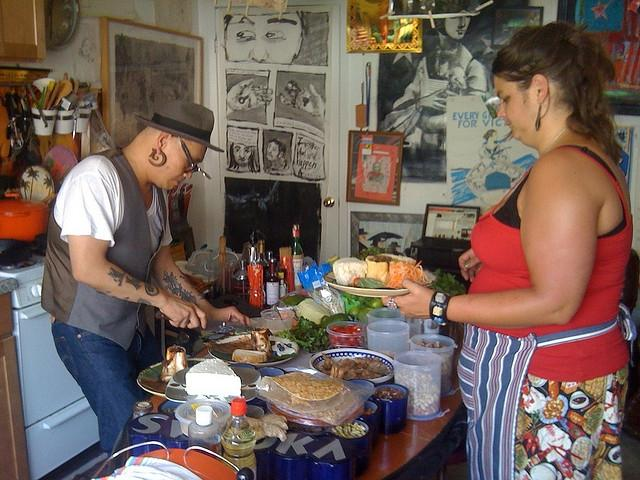lettuce: (276, 316, 330, 354), (431, 269, 466, 296)
tomato: (339, 336, 348, 342), (334, 328, 344, 333), (343, 326, 352, 330), (356, 327, 362, 332), (348, 330, 354, 334), (346, 332, 352, 334)
